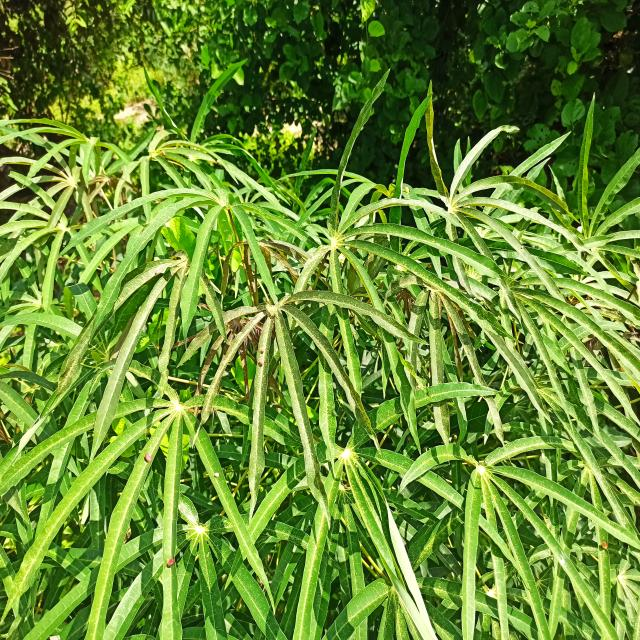Maleza: (219, 16, 634, 103), (0, 0, 276, 82)
Mosca: (163, 548, 185, 575), (253, 336, 267, 376), (473, 495, 493, 519), (138, 447, 158, 469)
